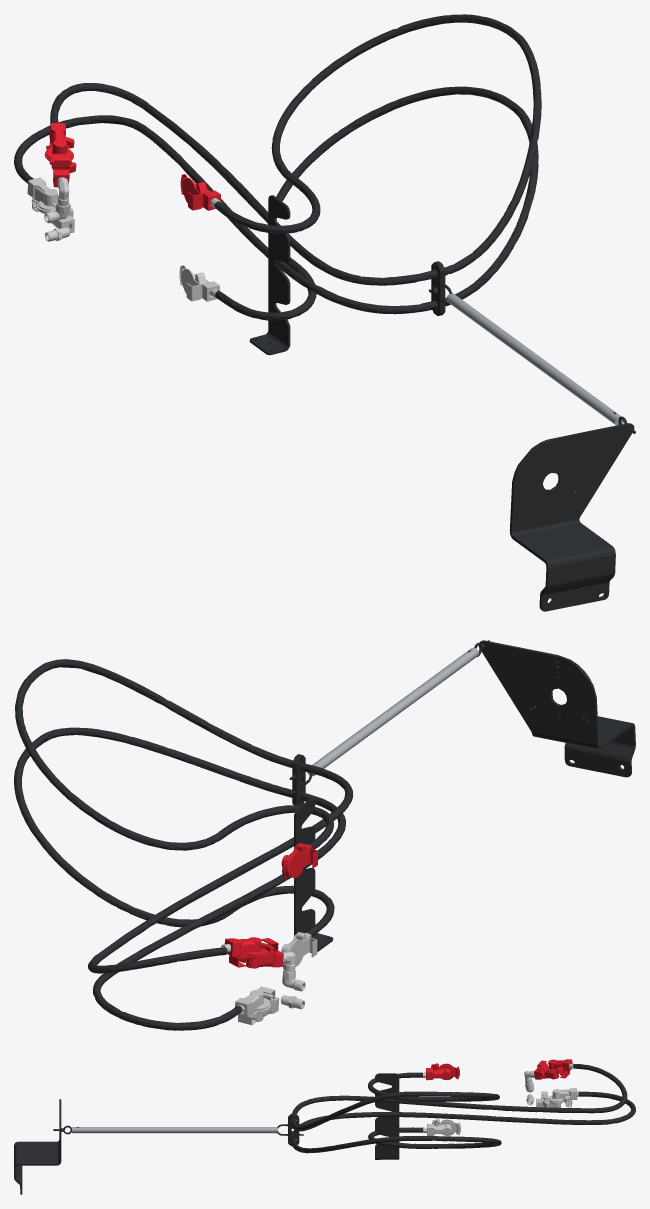
File: airlines.obj
3 renders of one model, top to bottom at view 1: azimuth 30°, elevation 25°; view 2: azimuth 150°, elevation 25°; view 3: azimuth 270°, elevation 25°, orthographic. The views are drawn at different scales.
Parts seen in each view (by area): view 1: obj_0, obj_1, obj_2, obj_4, obj_3; view 2: obj_0, obj_2, obj_1, obj_4, obj_3; view 3: obj_0, obj_1, obj_2, obj_4, obj_3.
Boxes of the visible parts, left/top/right/bottom form: obj_0: left=14, top=14, right=635, bottom=611; obj_1: left=446, top=293, right=623, bottom=425; obj_2: left=44, top=123, right=220, bottom=210; obj_4: left=27, top=177, right=219, bottom=301; obj_3: left=44, top=177, right=221, bottom=299; obj_0: left=14, top=640, right=635, bottom=1030; obj_2: left=224, top=843, right=317, bottom=968; obj_1: left=307, top=647, right=478, bottom=776; obj_4: left=235, top=932, right=317, bottom=1025; obj_3: left=221, top=933, right=308, bottom=1013; obj_0: left=14, top=1064, right=635, bottom=1194; obj_1: left=72, top=1127, right=277, bottom=1133; obj_2: left=426, top=1059, right=572, bottom=1080; obj_4: left=427, top=1088, right=577, bottom=1135; obj_3: left=423, top=1063, right=577, bottom=1132.
Bounding box in the file's own units: 32.44 × 23.23 × 76.61.
